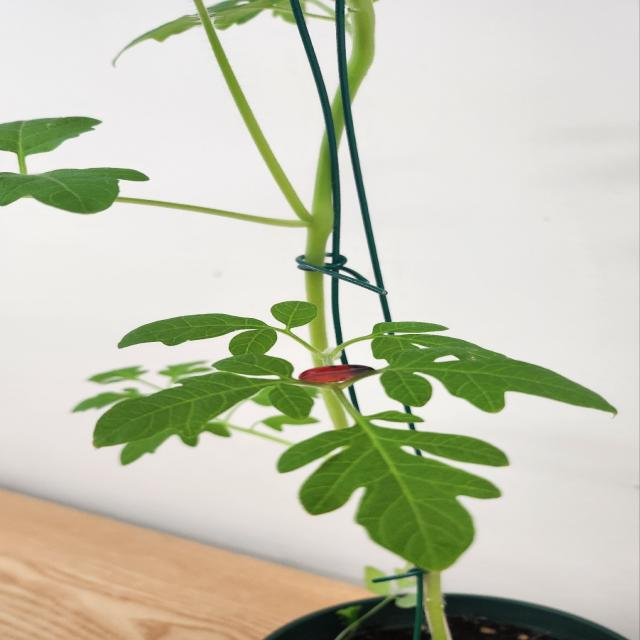bug: (280, 351, 380, 399)
